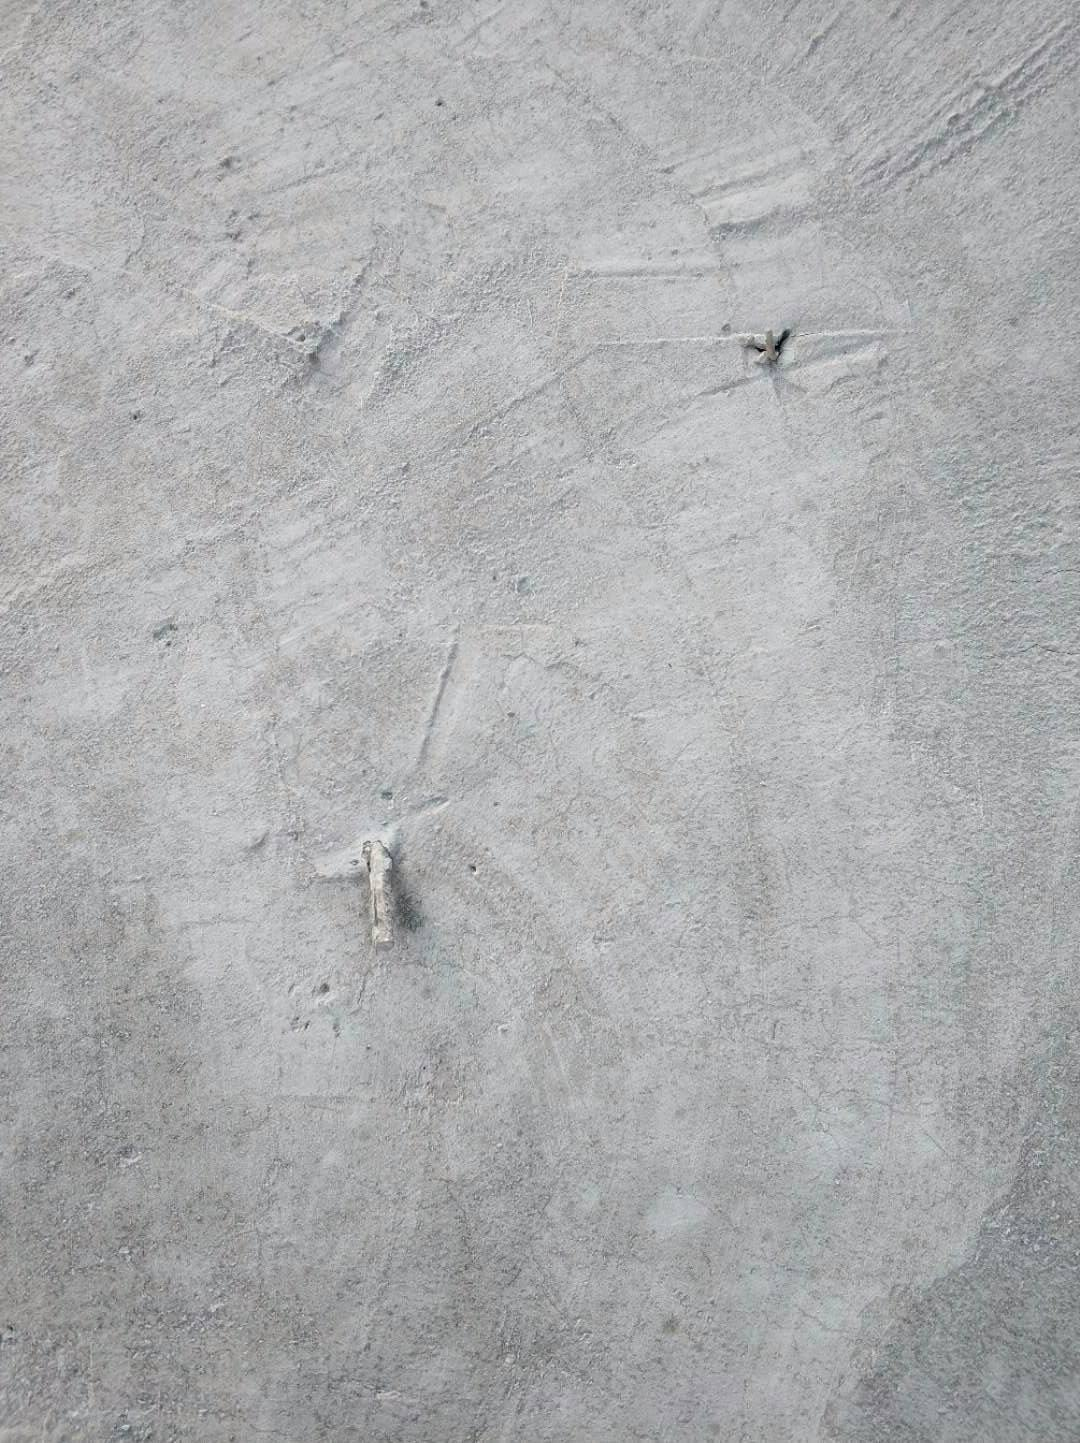Exposed reinforcement: (360, 838, 397, 952)
